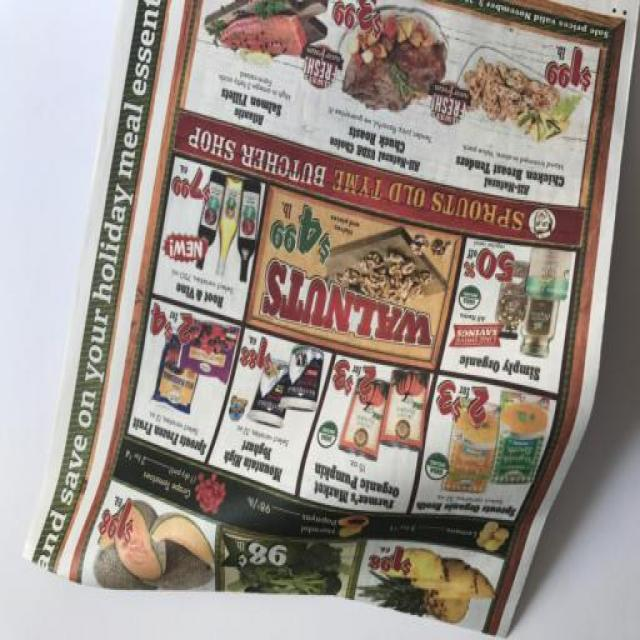paper: (14, 6, 640, 639)
